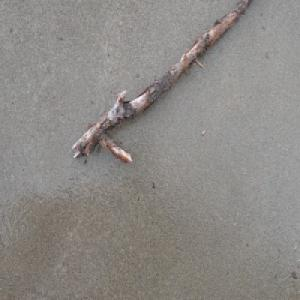Wood: (70, 0, 255, 167)
